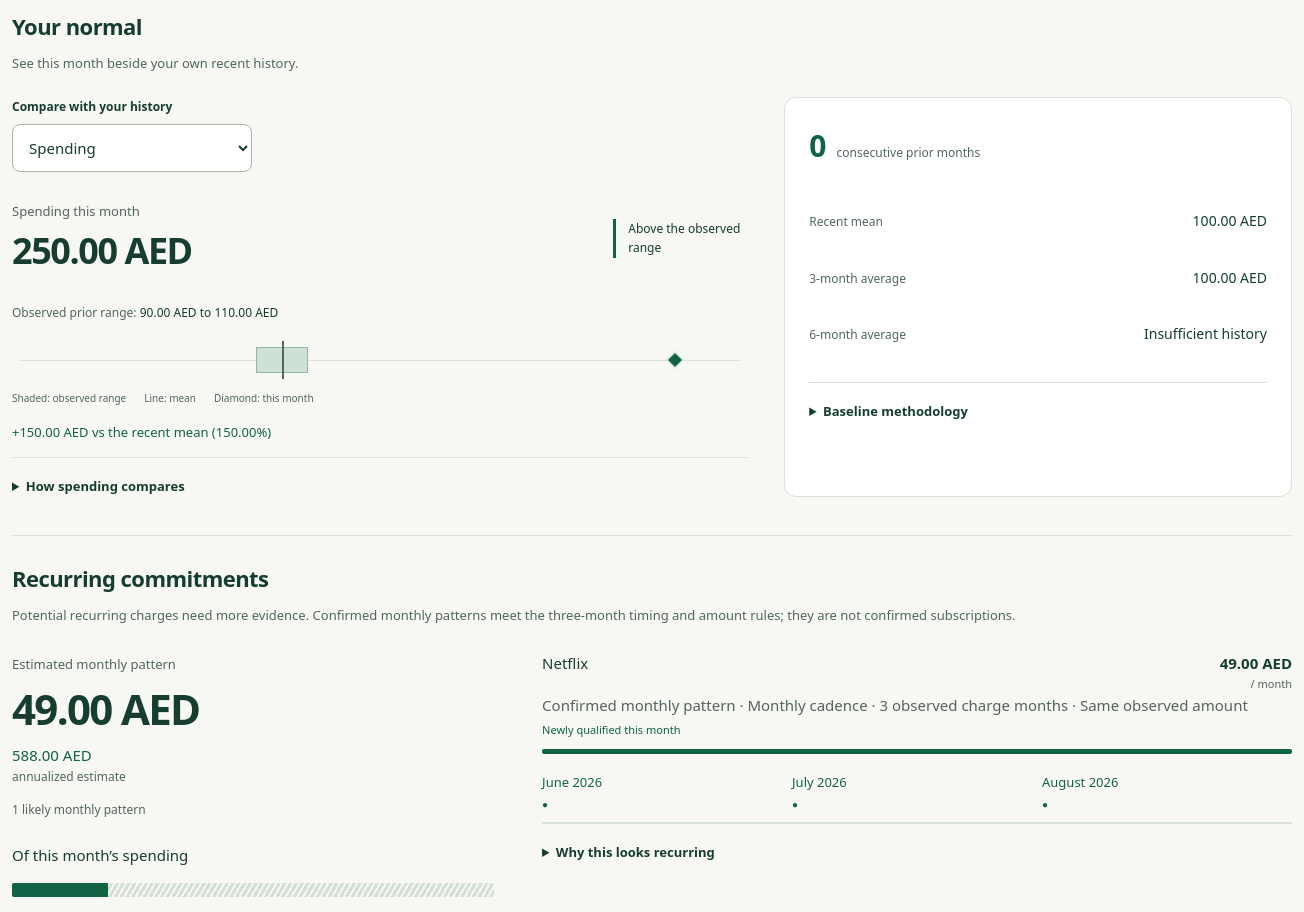
Scenario: renders baseline bands and recurring evidence with actual versus estimated spending
Check: the text "Above the observed range" is shown, box [613,219,748,258]
Click the heading "Why this looks recurring" at (635, 852), box [556,843,715,861]
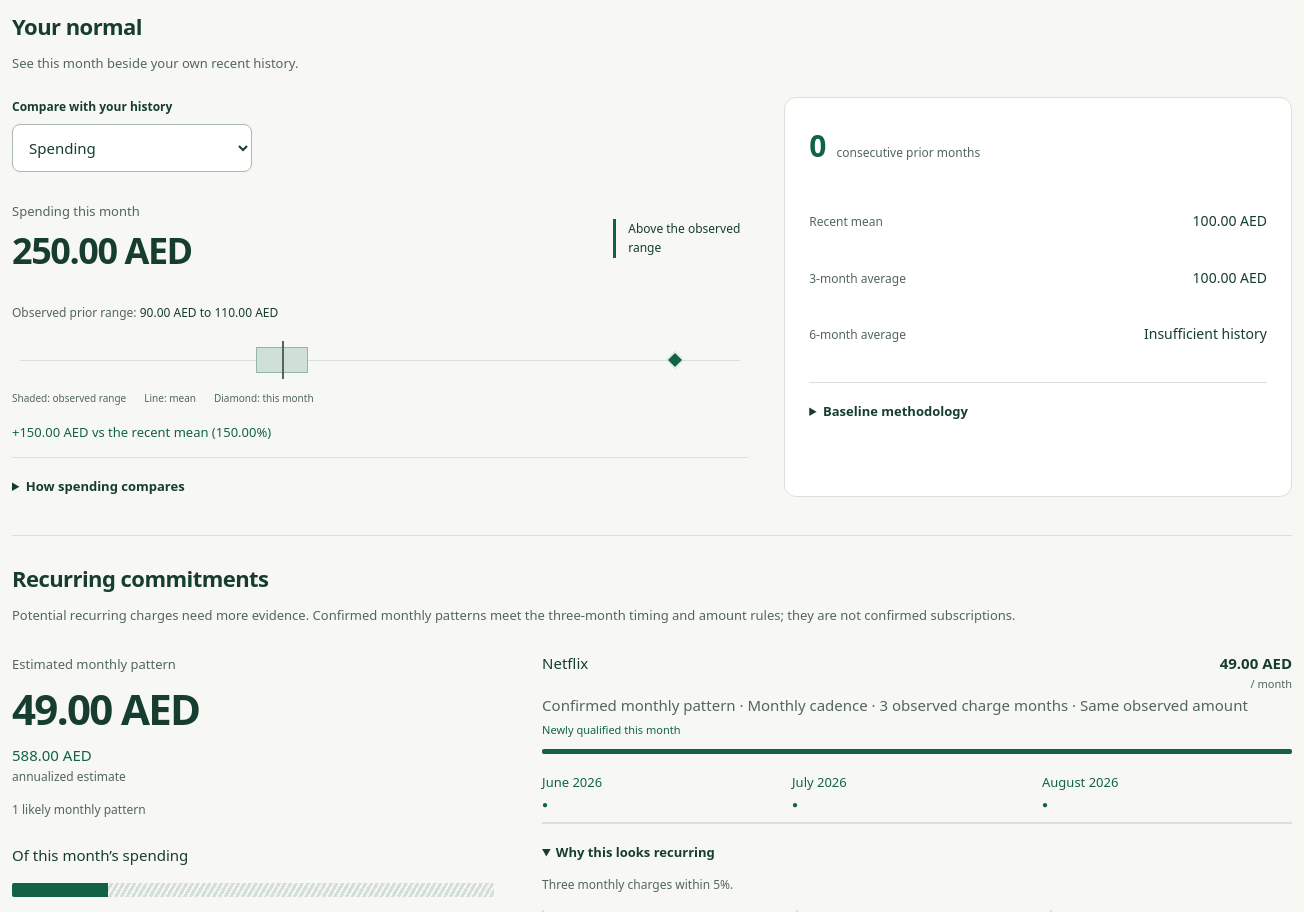
Check: the text "Newly qualified this month" is shown, box [542,722,680,737]
Check: the text "Three monthly charges within 5%." is shown, box [542,876,733,893]
Select "Income" in the dropdown labelled "Compare with your history" at (132, 148), box [12,124,252,172]
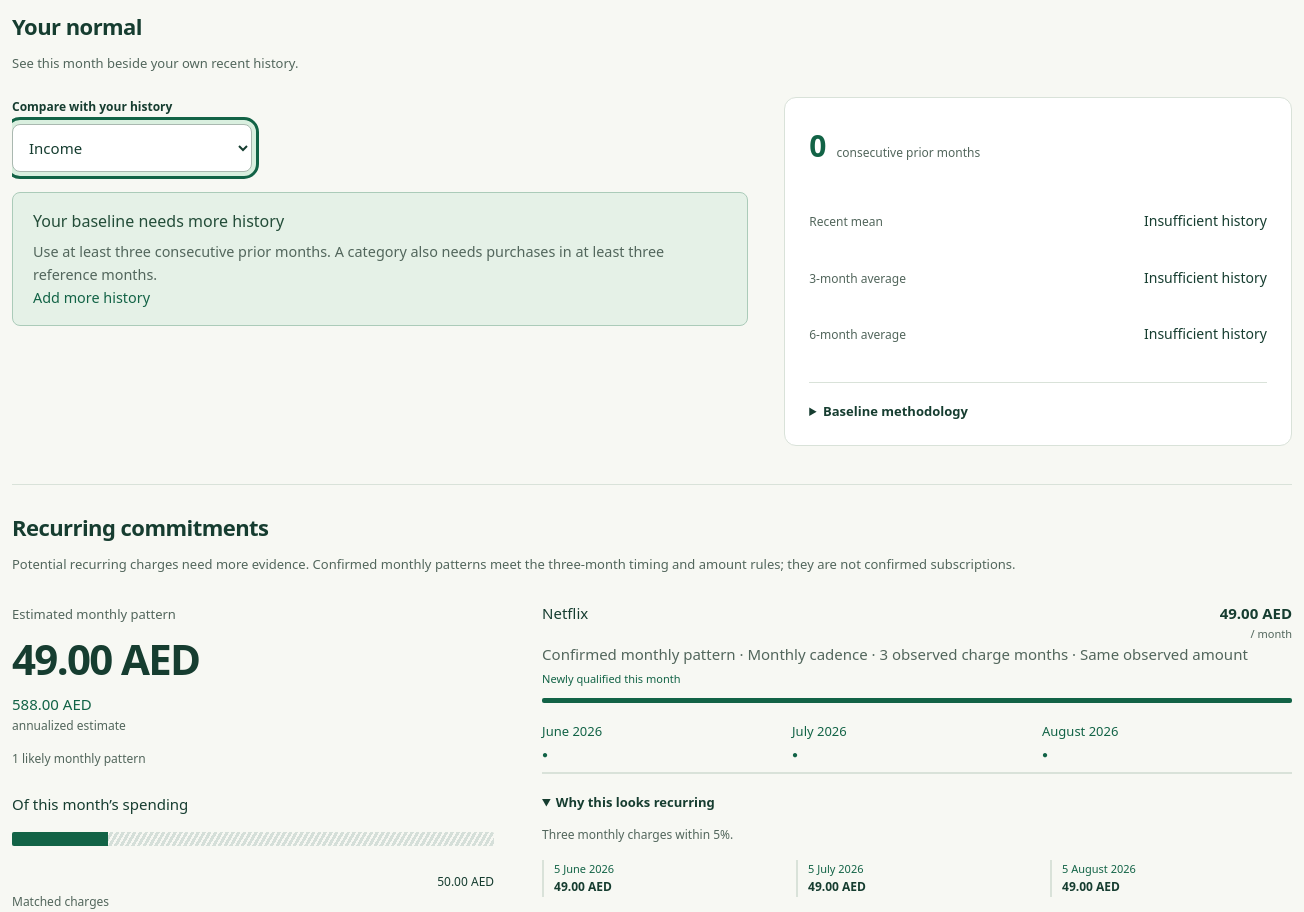
Check: the text "Above the observed range" is gone
Check: the heading "Your baseline needs more history" is shown, box [33,210,284,232]
